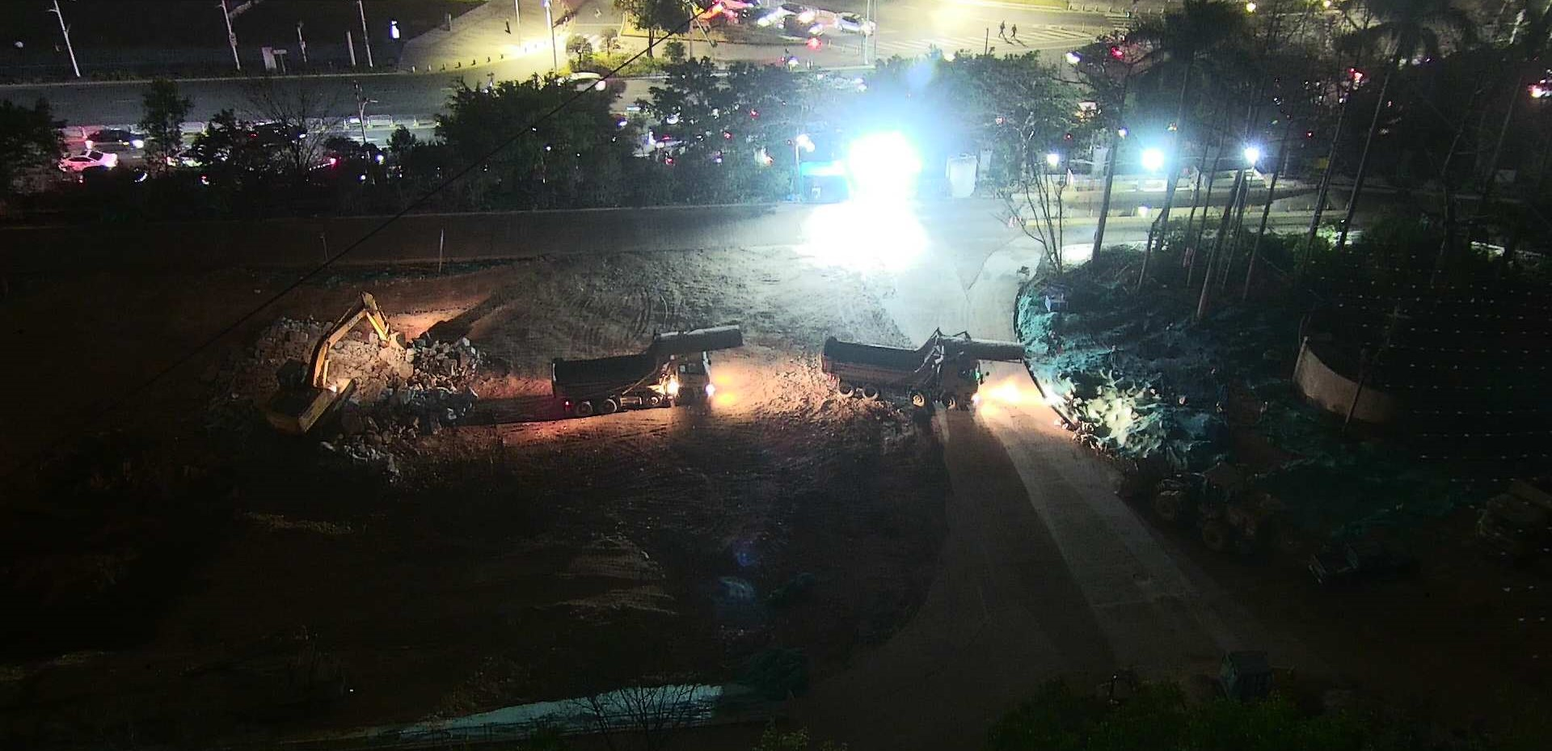过爆灯光: (793, 128, 929, 271), (1141, 148, 1162, 170), (1244, 146, 1258, 161)
